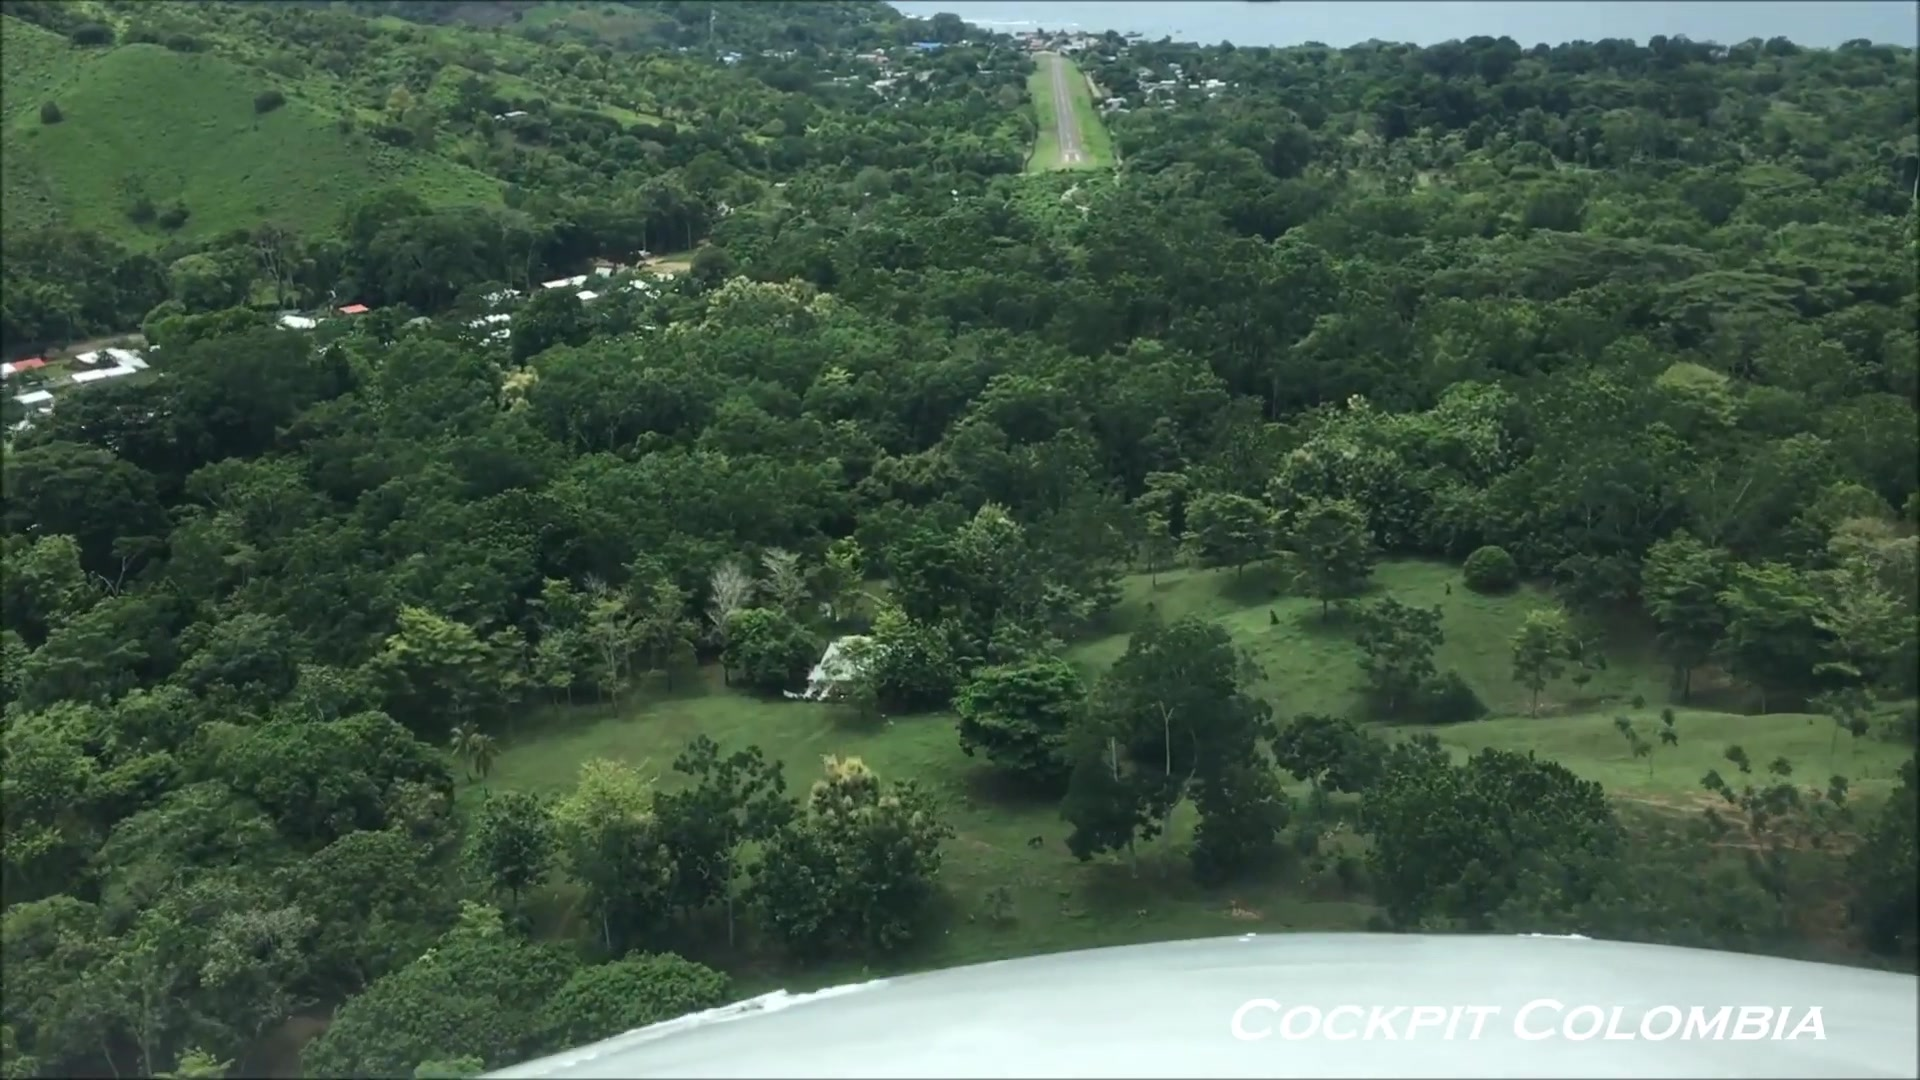runway: (1048, 57, 1085, 165)
